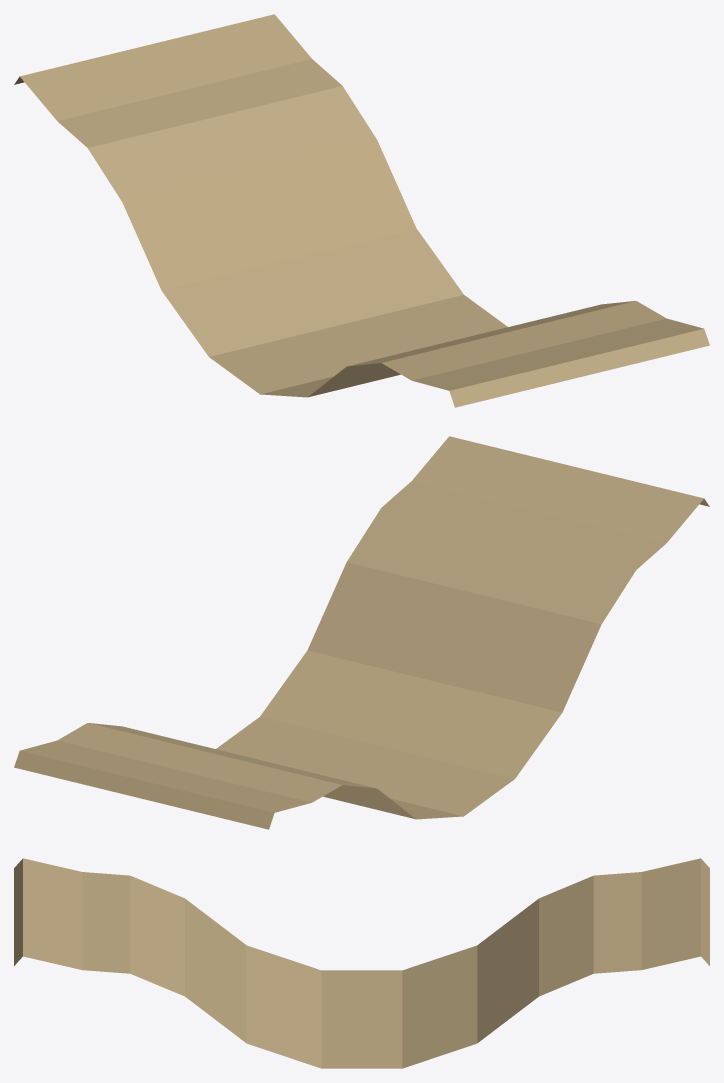
File: Groundpiece_Pipe_Middle_Sewer_Environment.FBX
3 renders of one model, top to bottom at view 1: azimuth 30°, elevation 25°; view 2: azimuth 150°, elevation 25°; view 3: azimuth 270°, elevation 25°, orthographic. The views are drawn at different scales.
Parts seen in each view (by area): view 1: Bodenpiece_Rohr_Mitte; view 2: Bodenpiece_Rohr_Mitte; view 3: Bodenpiece_Rohr_Mitte.
Part boxes in pixels (x1,y1,x2,y2): Bodenpiece_Rohr_Mitte: [14, 14, 709, 407]; Bodenpiece_Rohr_Mitte: [14, 436, 709, 829]; Bodenpiece_Rohr_Mitte: [14, 858, 709, 1068].
Size of the model in its own units: 100 by 53.24 by 299.
